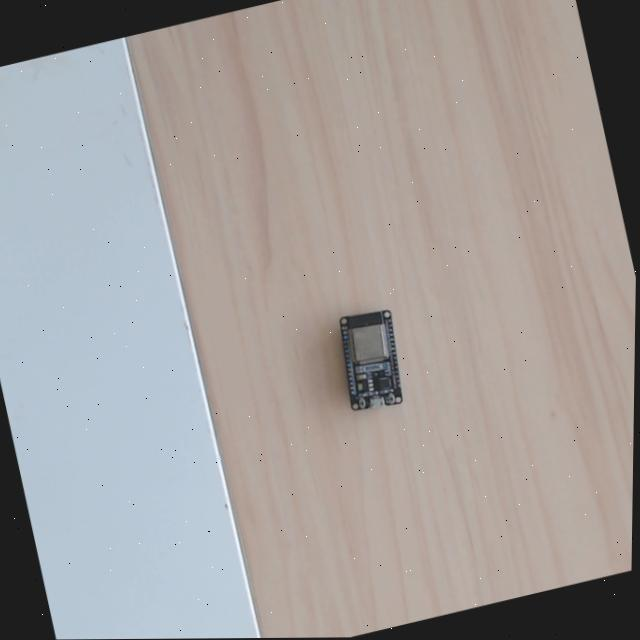ESP32-DevKit: (338, 306, 405, 413)
